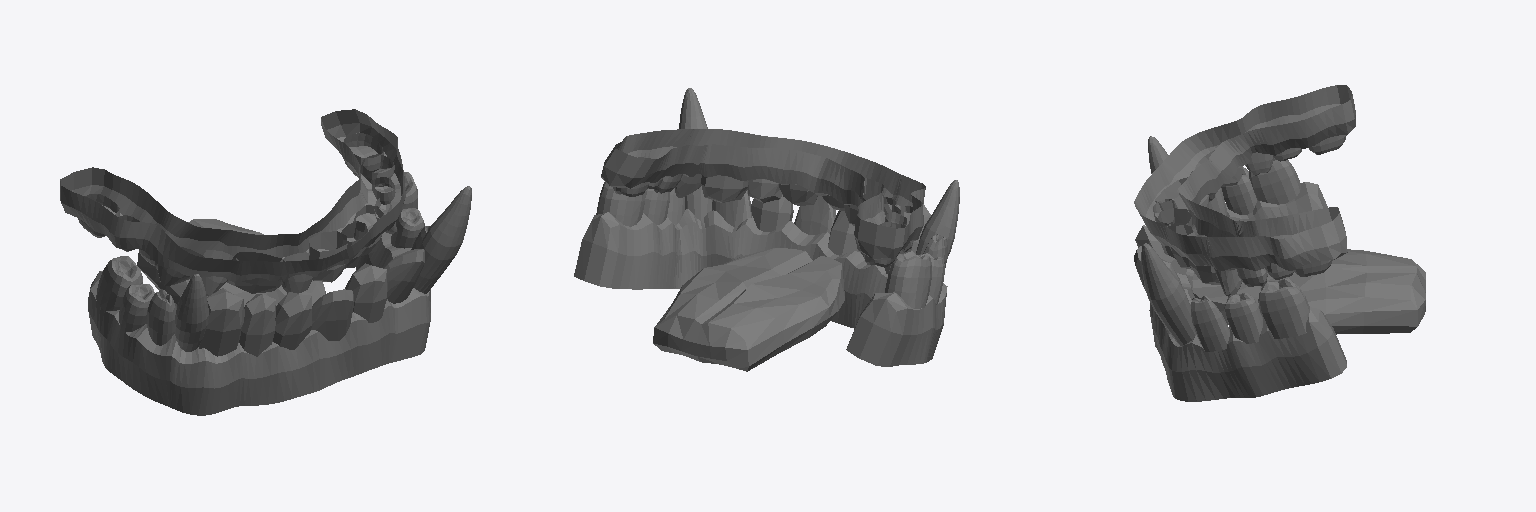
Rendered from Gums_and_Teeth_Kong_UV.obj.
3 renders of one model, left to right at view 1: azimuth 30°, elevation 25°; view 2: azimuth 150°, elevation 25°; view 3: azimuth 270°, elevation 25°, orthographic.
Visible parts, largest first — view 1: Face_Geo Kong_Model_05:Kong KongGeo Kong Kong_Model_05:lowerTeet, Kong_Model_05:UpperteethFinal Face_Geo Kong_Model_05:Kong KongGe, Face_Geo Kong_Model_05:Kong KongGeo Kong Kong_Model_05:Tongue; view 2: Face_Geo Kong_Model_05:Kong KongGeo Kong Kong_Model_05:lowerTeet, Kong_Model_05:UpperteethFinal Face_Geo Kong_Model_05:Kong KongGe, Face_Geo Kong_Model_05:Kong KongGeo Kong Kong_Model_05:Tongue; view 3: Face_Geo Kong_Model_05:Kong KongGeo Kong Kong_Model_05:lowerTeet, Kong_Model_05:UpperteethFinal Face_Geo Kong_Model_05:Kong KongGe, Face_Geo Kong_Model_05:Kong KongGeo Kong Kong_Model_05:Tongue.
Part boxes in pixels (x1,y1,x2,y2): Face_Geo Kong_Model_05:Kong KongGeo Kong Kong_Model_05:lowerTeet: (88, 172, 471, 415); Kong_Model_05:UpperteethFinal Face_Geo Kong_Model_05:Kong KongGe: (60, 109, 405, 295); Face_Geo Kong_Model_05:Kong KongGeo Kong Kong_Model_05:Tongue: (137, 219, 325, 309); Face_Geo Kong_Model_05:Kong KongGeo Kong Kong_Model_05:lowerTeet: (574, 88, 959, 366); Kong_Model_05:UpperteethFinal Face_Geo Kong_Model_05:Kong KongGe: (601, 129, 925, 267); Face_Geo Kong_Model_05:Kong KongGeo Kong Kong_Model_05:Tongue: (653, 248, 844, 371); Face_Geo Kong_Model_05:Kong KongGeo Kong Kong_Model_05:lowerTeet: (1134, 136, 1346, 401); Kong_Model_05:UpperteethFinal Face_Geo Kong_Model_05:Kong KongGe: (1134, 85, 1355, 296); Face_Geo Kong_Model_05:Kong KongGeo Kong Kong_Model_05:Tongue: (1192, 249, 1425, 334).
Size of the model in its own units: 3.86 by 2.15 by 2.95.